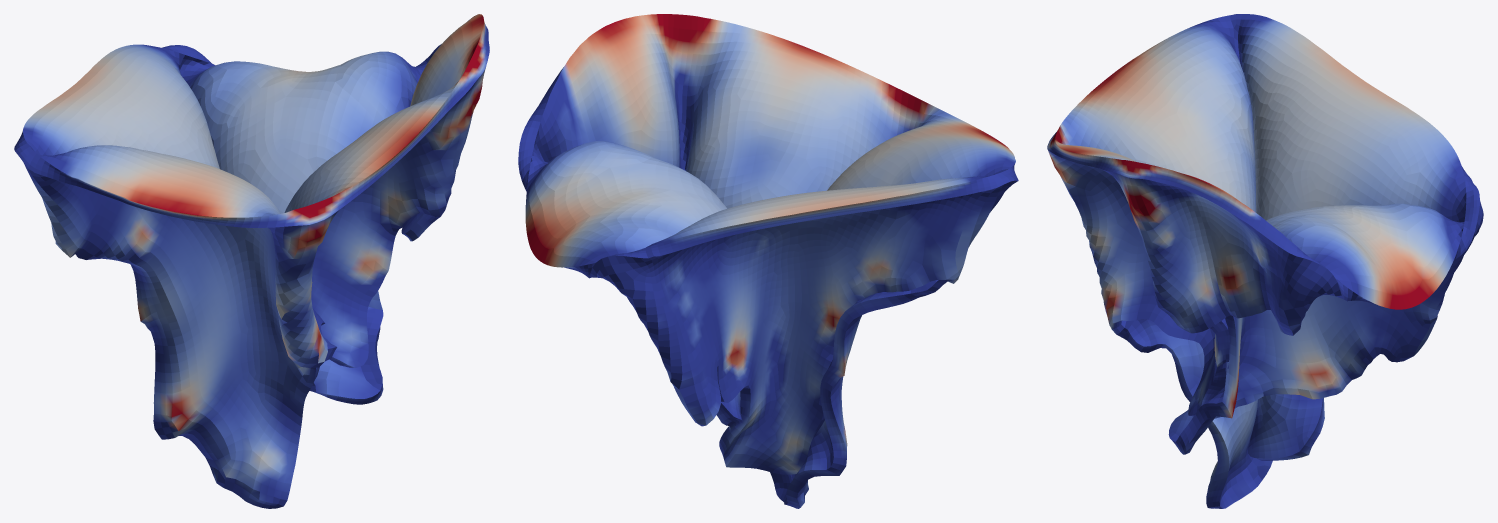
3 views of the same model, side by side, from view 1: azimuth 30°, elevation 25°; view 2: azimuth 150°, elevation 25°; view 3: azimuth 270°, elevation 25° (orthographic). The views are drawn at different scales.
Visible parts, largest first — view 1: OCS14_maxS_14; view 2: OCS14_maxS_14; view 3: OCS14_maxS_14.
Boxes of the visible parts, x1=… form: OCS14_maxS_14: x1=14, y1=14, x2=489, y2=508; OCS14_maxS_14: x1=518, y1=14, x2=1018, y2=508; OCS14_maxS_14: x1=1047, y1=14, x2=1483, y2=508.
Bounding box in the file's own units: 1.42 × 1.28 × 1.19.
